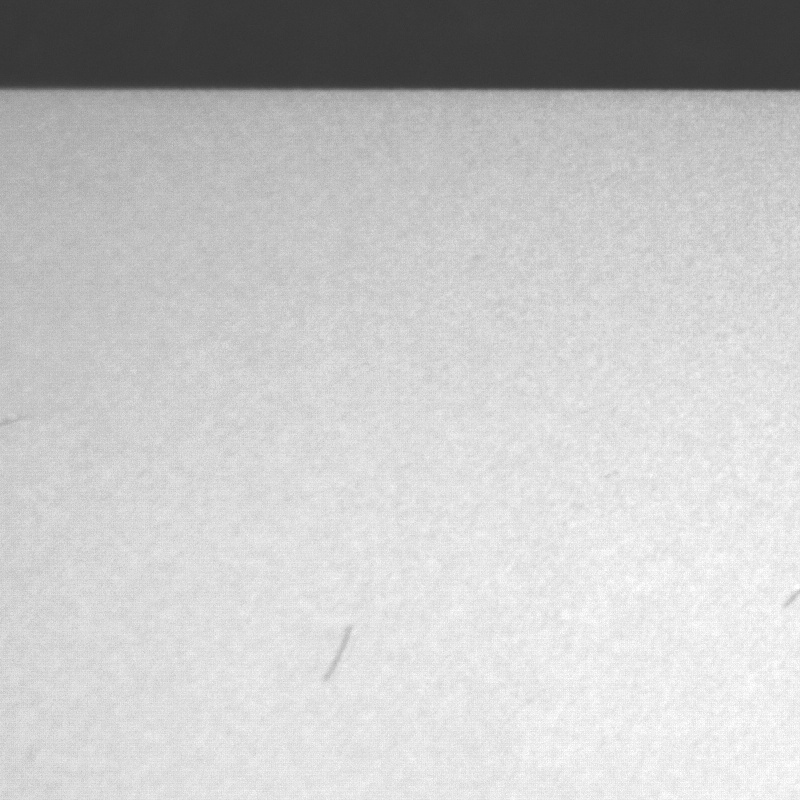defect: (315, 620, 355, 684), (777, 585, 800, 612)
